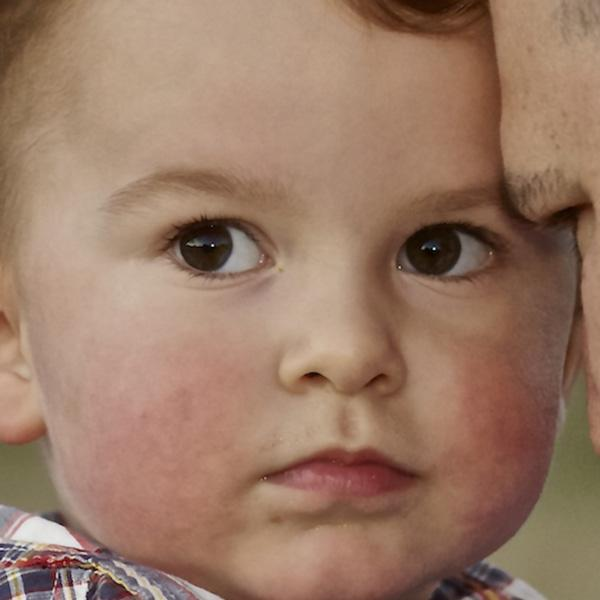Eyes: (140, 198, 285, 296), (385, 208, 528, 301)
